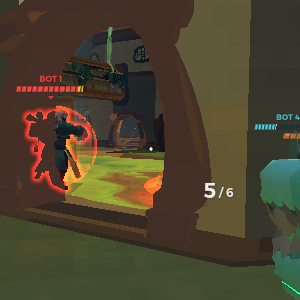model: (22, 106, 91, 194)
